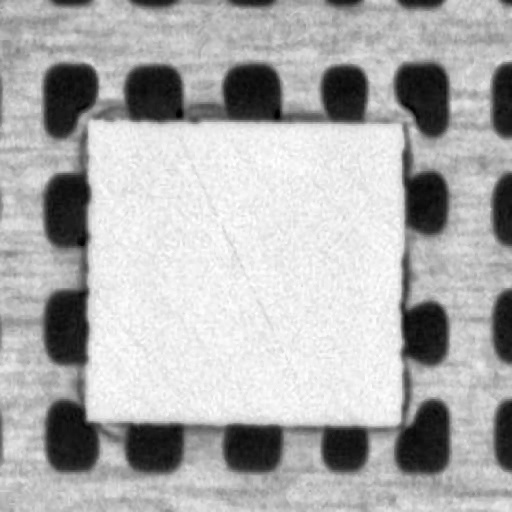DIE_CRACK: (235, 102, 390, 282)
